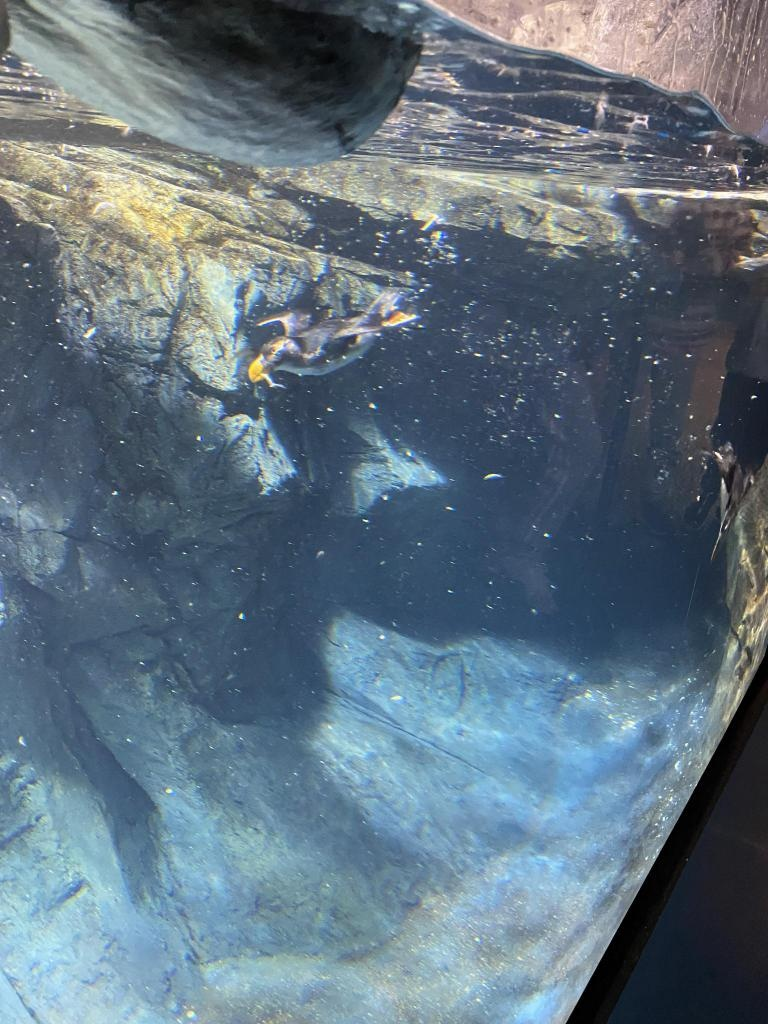puffin: (235, 288, 411, 396)
